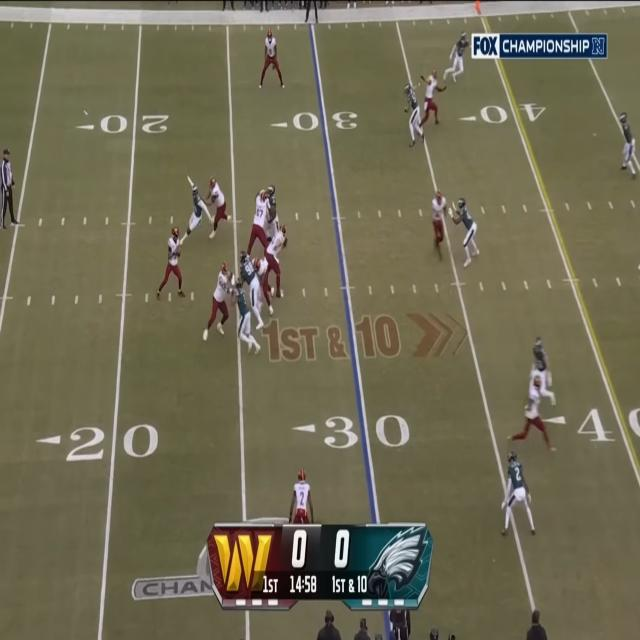Ball: (176, 246, 182, 259)
